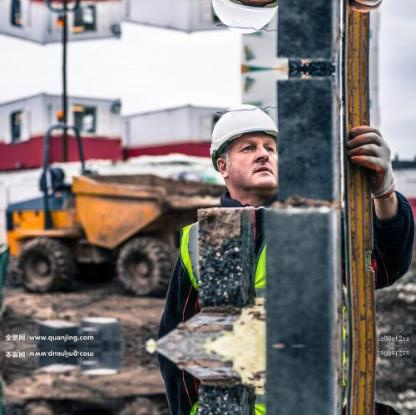Safety Helmet: (205, 98, 290, 202), (204, 1, 289, 32)
